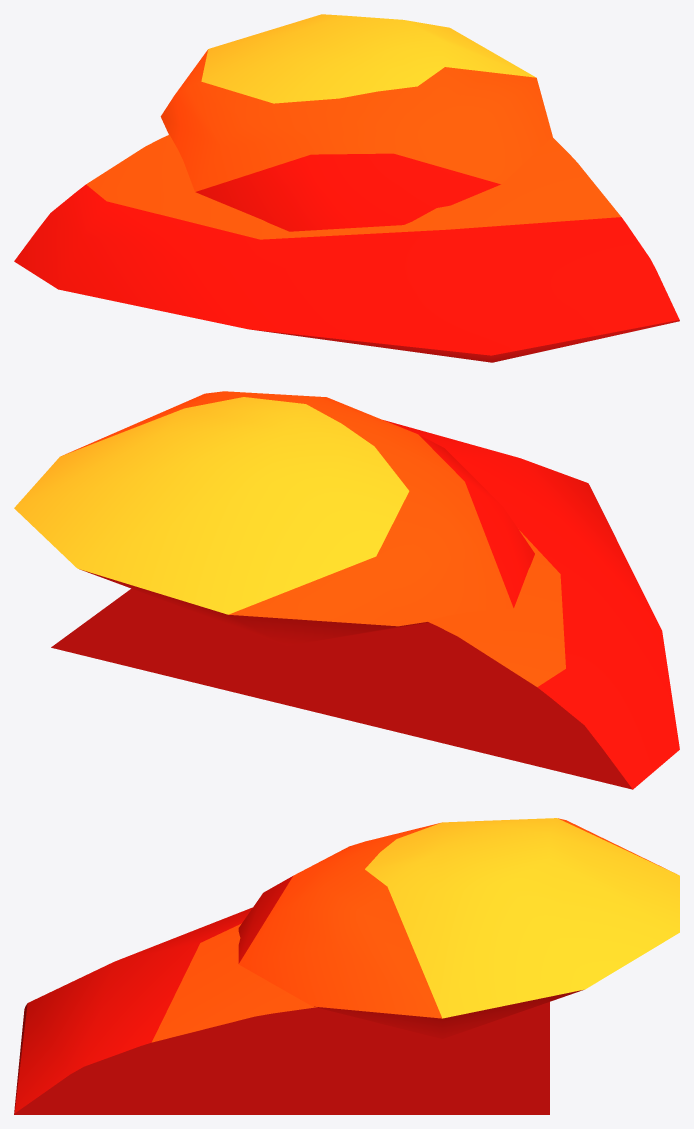
Rendered from shot_zflame_215.glb.
3 views of the same model, one above another, from view 1: azimuth 30°, elevation 25°; view 2: azimuth 150°, elevation 25°; view 3: azimuth 270°, elevation 25° (orthographic). The views are drawn at different scales.
Parts seen in each view (by area): view 1: zflame_5_bed_b215, zflame_5_billow1_b215; view 2: zflame_5_billow1_b215, zflame_5_bed_b215; view 3: zflame_5_billow1_b215, zflame_5_bed_b215.
Boxes of the visible parts, box(x1,y1,x2,y2) form: zflame_5_bed_b215: box(14, 134, 679, 362); zflame_5_billow1_b215: box(160, 14, 552, 231); zflame_5_billow1_b215: box(14, 391, 534, 645); zflame_5_bed_b215: box(51, 420, 679, 789); zflame_5_billow1_b215: box(238, 818, 679, 1038); zflame_5_bed_b215: box(14, 907, 549, 1114).
Size of the model in its own units: 9.03 by 2.99 by 9.28.
